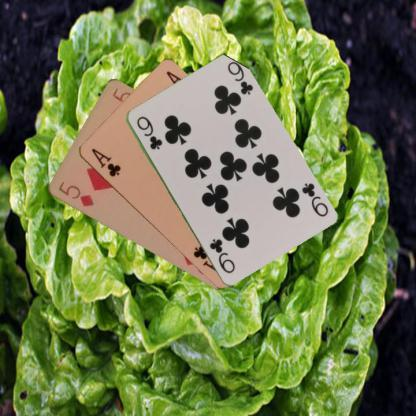5d: (55, 179, 95, 208)
9c: (298, 180, 329, 218), (134, 113, 164, 151)
Ac: (88, 146, 122, 178)
